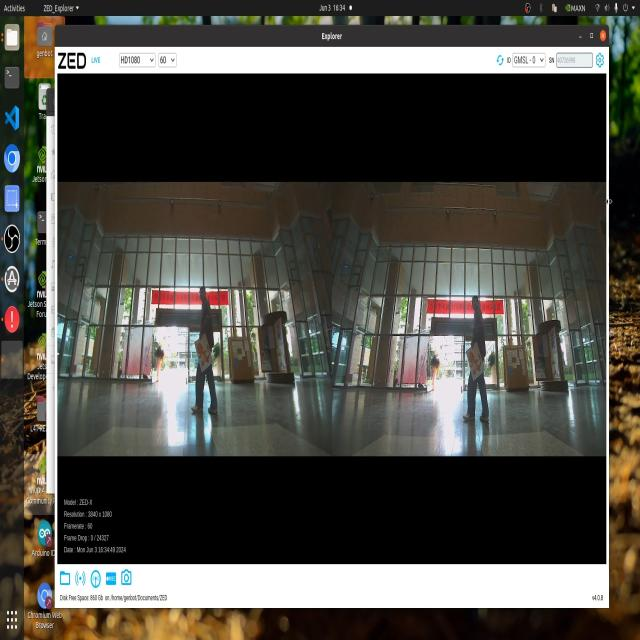red: (461, 350, 482, 379), (196, 333, 209, 375)
